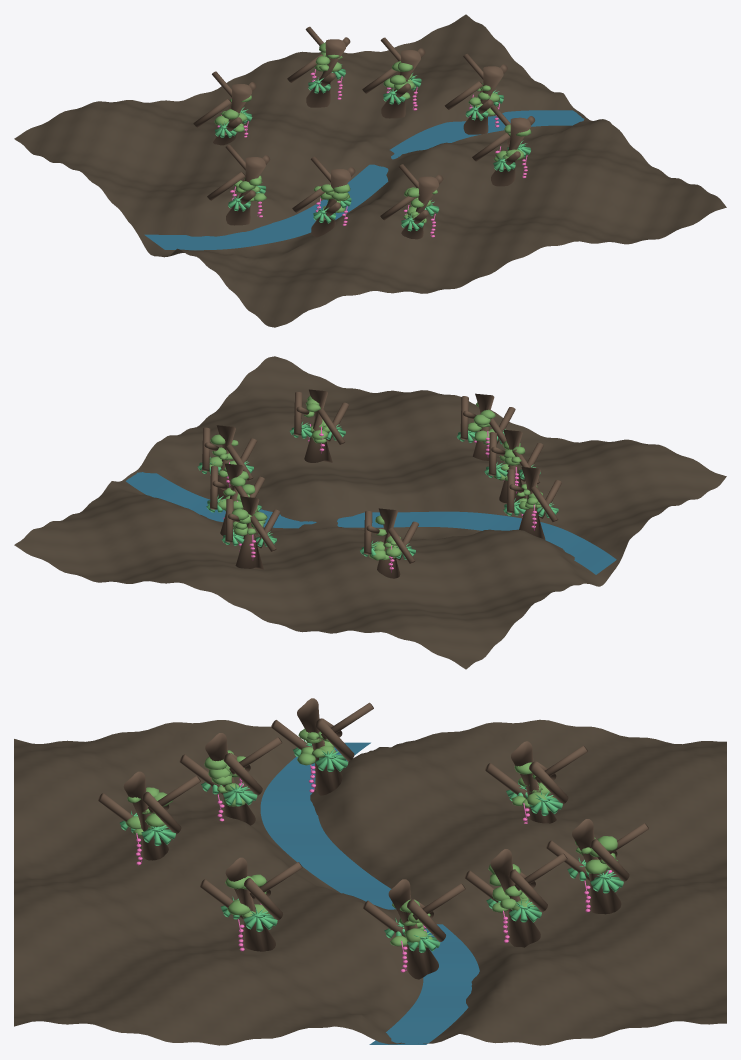
The model's file is cloud-forest.glb.
The picture shows the model from 3 angles, top to bottom: view 1: azimuth 30°, elevation 25°; view 2: azimuth 150°, elevation 25°; view 3: azimuth 270°, elevation 25°; orthographic projection. The views are drawn at different scales.
Parts seen in each view (by area): view 1: Node1, Node2, Node332, Node191, Node238, Node50, Node144, Node3, Node285, Node97; view 2: Node1, Node2, Node332, Node50, Node191, Node97, Node3, Node285, Node238; view 3: Node1, Node2, Node144, Node238, Node50, Node332, Node191, Node285, Node3, Node97.
Part boxes in pixels (left/top/right/bottom): Node1: left=14, top=14, right=726, bottom=327; Node2: left=144, top=110, right=584, bottom=250; Node332: left=306, top=39, right=345, bottom=107; Node191: left=226, top=157, right=265, bottom=225; Node238: left=463, top=66, right=503, bottom=134; Node50: left=491, top=117, right=530, bottom=186; Node144: left=381, top=50, right=420, bottom=118; Node3: left=311, top=169, right=350, bottom=237; Node285: left=401, top=176, right=438, bottom=239; Node97: left=213, top=84, right=252, bottom=145; Node1: left=14, top=356, right=726, bottom=669; Node2: left=126, top=472, right=616, bottom=574; Node332: left=235, top=496, right=263, bottom=569; Node50: left=304, top=389, right=332, bottom=462; Node191: left=519, top=467, right=545, bottom=539; Node97: left=377, top=508, right=400, bottom=578; Node3: left=499, top=429, right=525, bottom=503; Node285: left=472, top=393, right=494, bottom=460; Node238: left=216, top=425, right=235, bottom=498; Node1: left=14, top=719, right=726, bottom=1045; Node2: left=260, top=742, right=479, bottom=1044; Node144: left=490, top=849, right=540, bottom=947; Node238: left=388, top=879, right=438, bottom=979; Node50: left=225, top=857, right=275, bottom=951; Node332: left=572, top=819, right=621, bottom=914; Node191: left=297, top=698, right=342, bottom=795; Node285: left=123, top=771, right=168, bottom=860; Node3: left=205, top=733, right=255, bottom=825; Node97: left=511, top=741, right=556, bottom=823.
Bounding box in the file's own units: 70 × 13.13 × 70.
